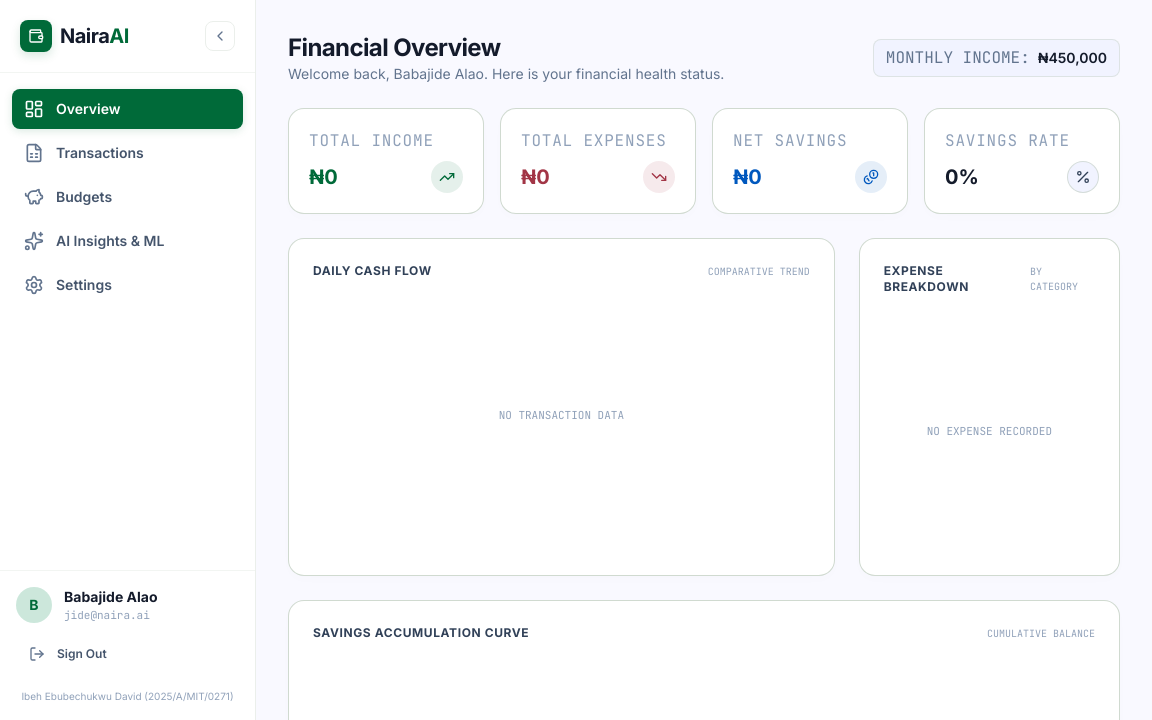
Budgets tab › renders a budget card with spend progress
Expected: the heading "Financial Overview" is shown, [288, 33, 500, 62]
Click the button "Budgets" at {"x": 128, "y": 197}, box [12, 177, 243, 217]
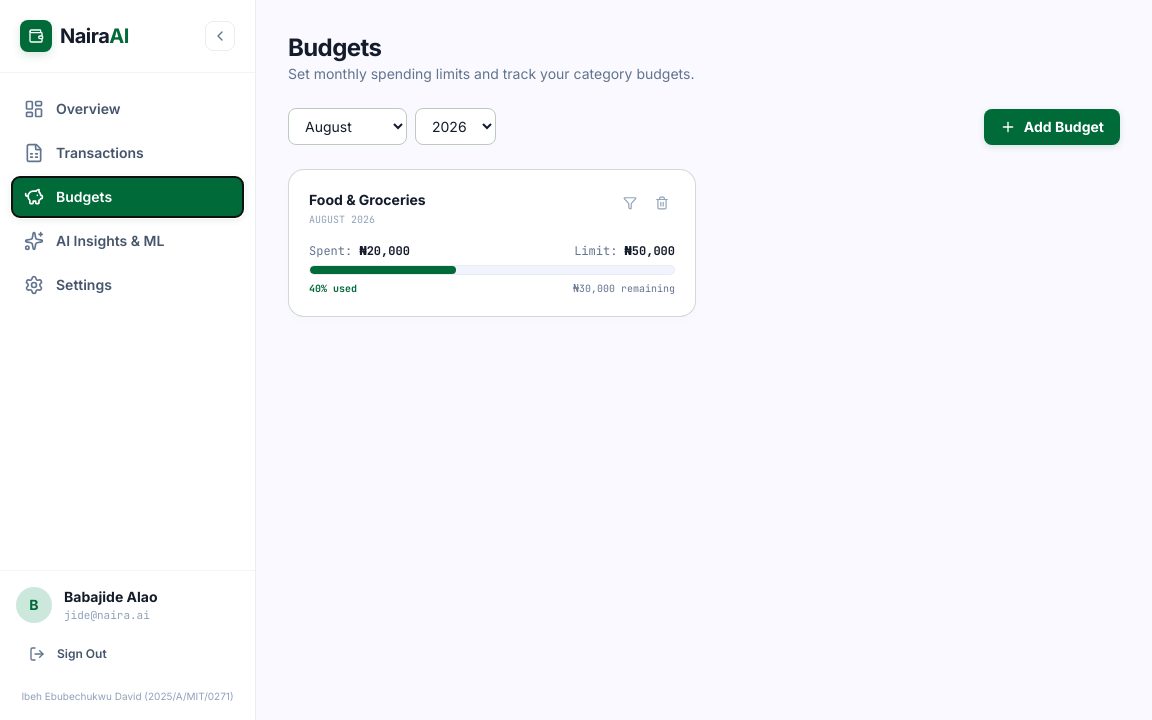
Expected: the button "Add Budget" is shown, [984, 108, 1120, 144]
Expected: the text "Food & Groceries" is shown, [309, 190, 426, 210]
Expected: the text "40% used" is shown, [309, 281, 357, 296]
